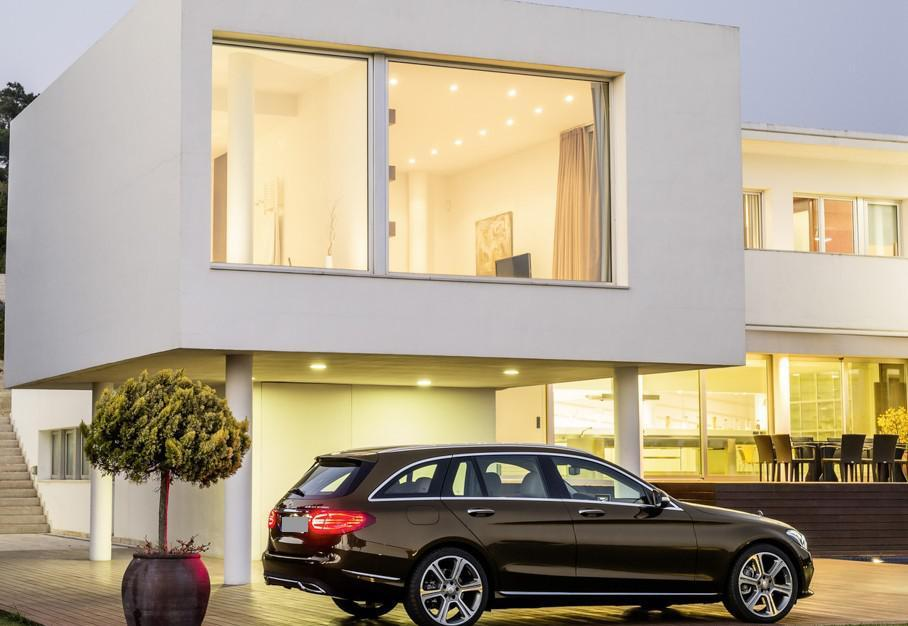Wagon: (262, 442, 815, 626)
